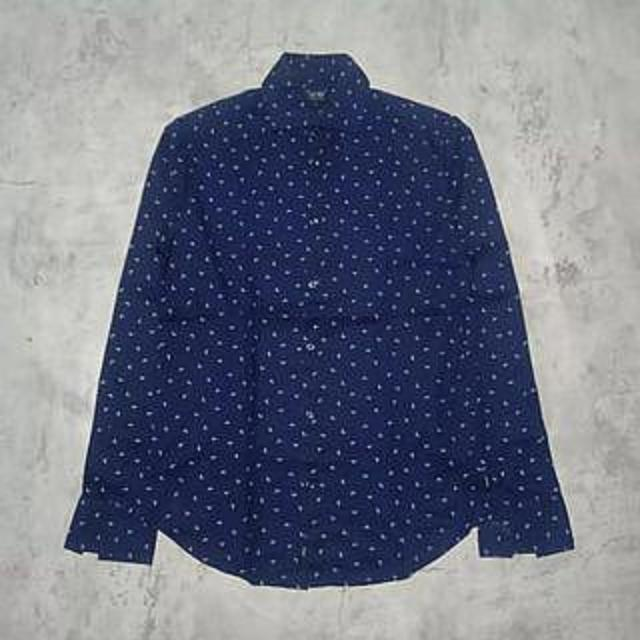SHIRT: (51, 34, 640, 592)
